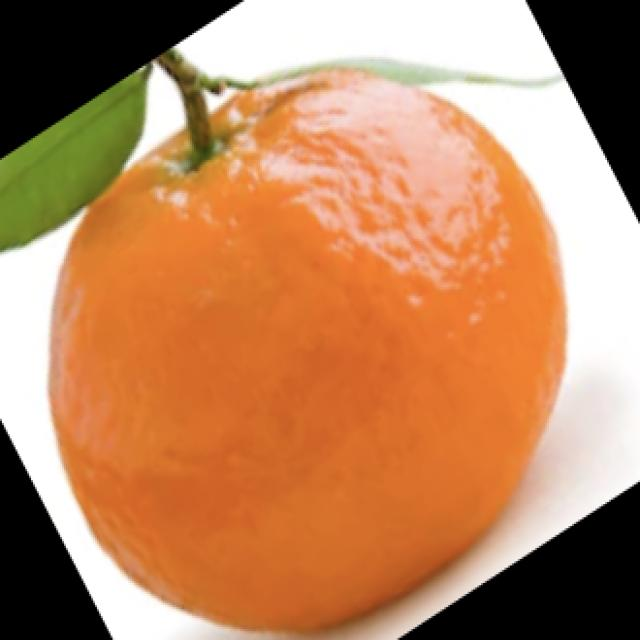matang: (46, 72, 559, 640)
